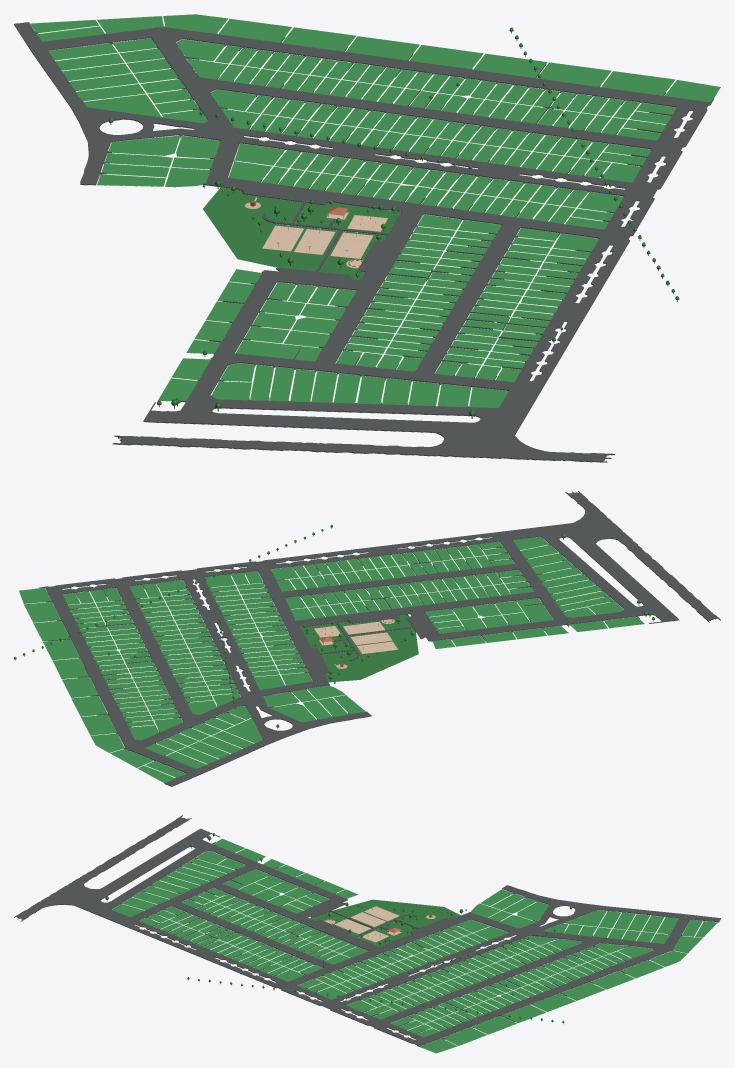
Rendered from alianca_park_masterplan_preview.glb.
3 renders of one model, top to bottom at view 1: azimuth 30°, elevation 25°; view 2: azimuth 150°, elevation 25°; view 3: azimuth 270°, elevation 25°, orthographic. The views are drawn at different scales.
Parts seen in each view (by area): view 1: Asfalto_tracado_do_PDF, Area_de_lazer_base, Lote_103, Lote_236, Lote_081, Lote_044, Lote_018, Lote_030, Lote_059, Lote_010, Lote_050, Lote_023 (+13 smaller); view 2: Asfalto_tracado_do_PDF, Area_de_lazer_base, Lote_103, Lote_059, Lote_236, Lote_044, Lote_081, Lote_030, Lote_018, Lote_010, Lote_023, Lote_050; view 3: Asfalto_tracado_do_PDF, Area_de_lazer_base, Lote_103, Lote_081, Lote_236, Lote_044, Lote_018, Lote_030, Lote_010, Lote_059, Lote_023.
Part boxes in pixels (box(x1,y1,x2,y2)): Asfalto_tracado_do_PDF: box(14, 22, 713, 462); Area_de_lazer_base: box(203, 187, 407, 279); Lote_103: box(601, 71, 675, 95); Lote_236: box(236, 340, 322, 361); Lote_081: box(537, 62, 611, 86); Lote_044: box(409, 45, 483, 68); Lote_018: box(282, 27, 355, 51); Lote_030: box(346, 36, 419, 60); Lote_059: box(473, 53, 547, 77); Lote_010: box(218, 19, 291, 42); Lote_050: box(108, 135, 180, 155); Lote_023: box(83, 94, 161, 117); Asfalto_tracado_do_PDF: box(39, 491, 720, 786); Area_de_lazer_base: box(300, 614, 418, 682); Lote_103: box(24, 602, 60, 622); Lote_059: box(43, 639, 79, 660); Lote_236: box(517, 598, 553, 622); Lote_044: box(53, 658, 88, 678); Lote_081: box(33, 620, 69, 641); Lote_030: box(62, 677, 97, 697); Lote_018: box(71, 696, 107, 716); Lote_010: box(81, 715, 116, 735); Lote_023: box(224, 718, 262, 743); Lote_050: box(270, 703, 316, 722); Asfalto_tracado_do_PDF: box(14, 815, 720, 1047); Area_de_lazer_base: box(308, 899, 460, 949); Lote_103: box(443, 1027, 486, 1045); Lote_081: box(472, 1016, 516, 1034); Lote_236: box(223, 869, 269, 889); Lote_044: box(531, 993, 575, 1011); Lote_018: box(591, 971, 634, 989); Lote_030: box(561, 982, 604, 1000); Lote_010: box(620, 960, 663, 978); Lote_059: box(502, 1005, 545, 1023); Lote_023: box(564, 910, 606, 926).
Size of the model in its own units: 581 by 7.61 by 730.
